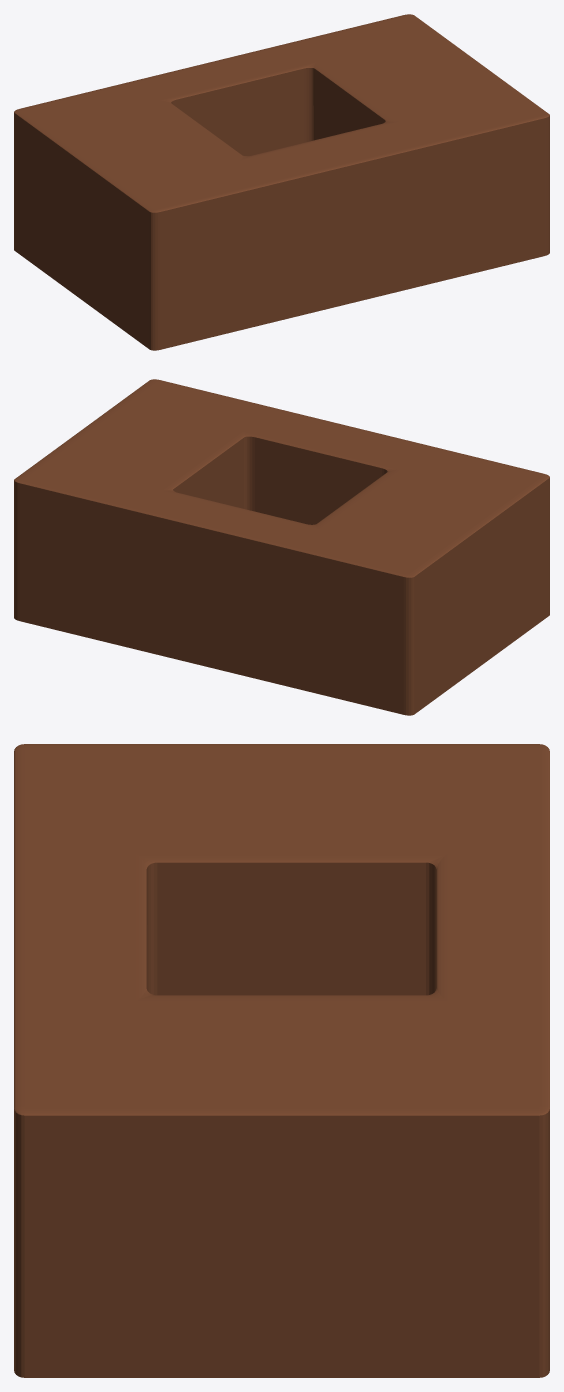
The model's file is Latrina.fbx.
3 views of the same model, one above another, from view 1: azimuth 30°, elevation 25°; view 2: azimuth 150°, elevation 25°; view 3: azimuth 270°, elevation 25° (orthographic). The views are drawn at different scales.
Parts seen in each view (by area): view 1: Latrina; view 2: Latrina; view 3: Latrina.
Boxes of the visible parts, x1,y1,x2,y2 form: Latrina: (14,14,549,350); Latrina: (14,379,549,715); Latrina: (14,744,549,1377).
Bounding box in the file's own units: 151 × 50.44 × 92.39.
